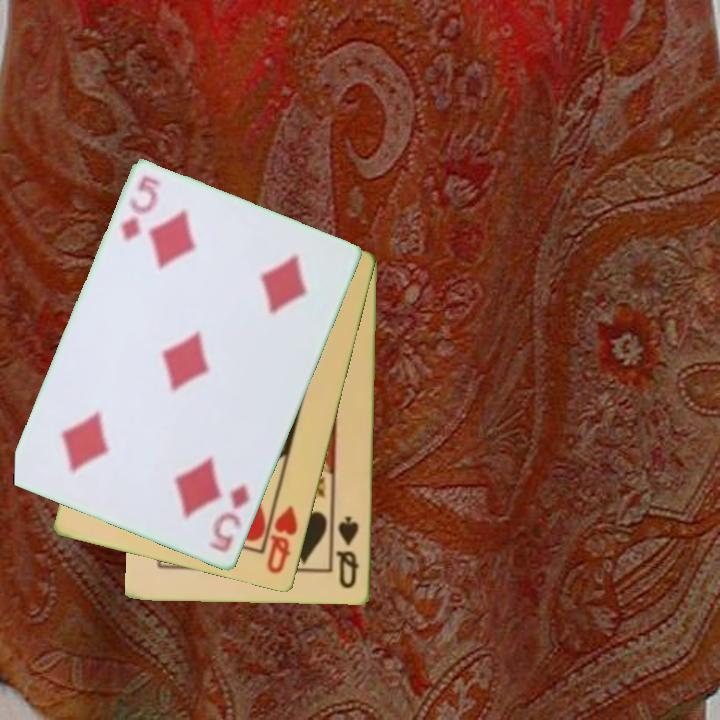5d: (205, 480, 254, 556), (116, 172, 164, 245)
Qh: (264, 502, 301, 577)
Qs: (334, 513, 362, 592)
